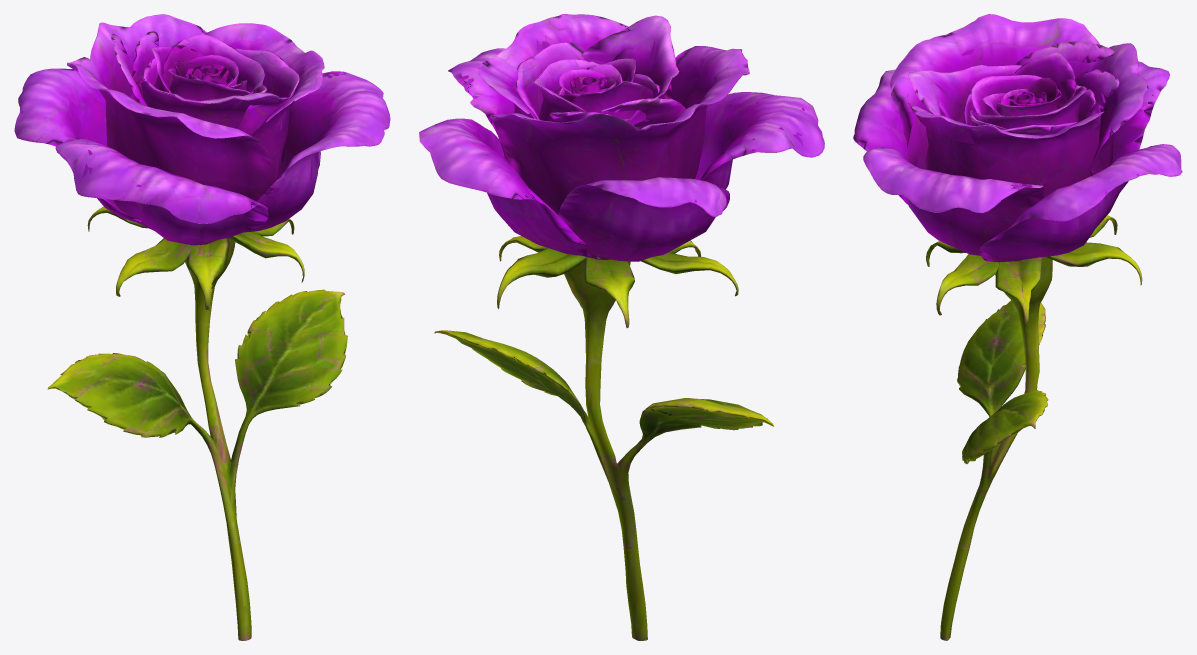
The model's file is rose_purple.glb.
The picture shows the model from 3 angles, left to right: view 1: azimuth 30°, elevation 25°; view 2: azimuth 150°, elevation 25°; view 3: azimuth 270°, elevation 25°; orthographic projection. The views are drawn at different scales.
Visible parts, largest first — view 1: geometry_0; view 2: geometry_0; view 3: geometry_0.
Boxes of the visible parts, x1=… form: geometry_0: x1=14, y1=14, x2=390, y2=640; geometry_0: x1=419, y1=14, x2=824, y2=640; geometry_0: x1=853, y1=14, x2=1182, y2=640.
Bounding box in the file's own units: 0.5698 × 0.9521 × 0.501.
Materials: 1 (1 with a texture image).
